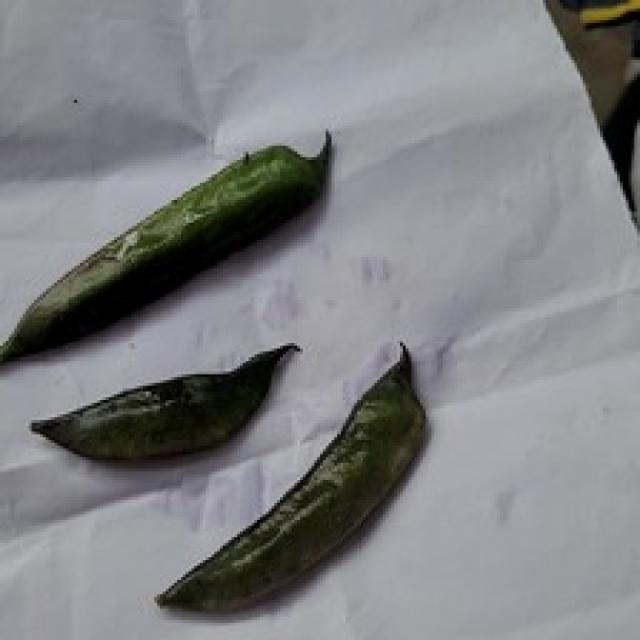Bean: (0, 125, 331, 368), (152, 337, 428, 614), (29, 340, 300, 460)
